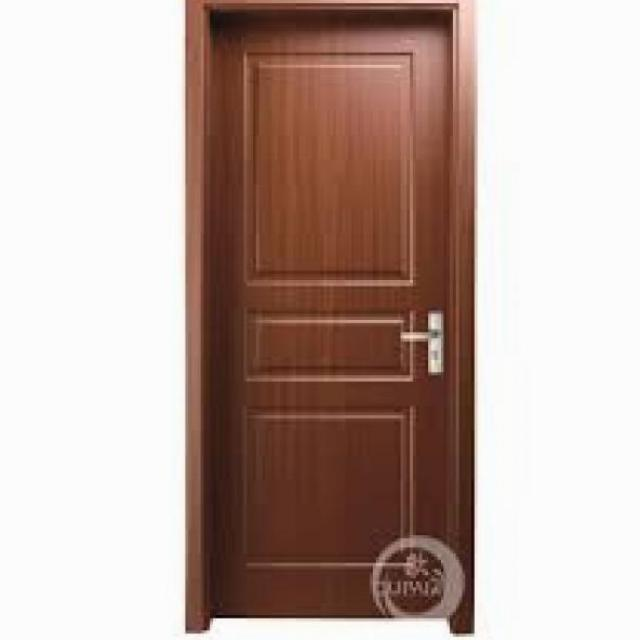door: (194, 0, 475, 632)
